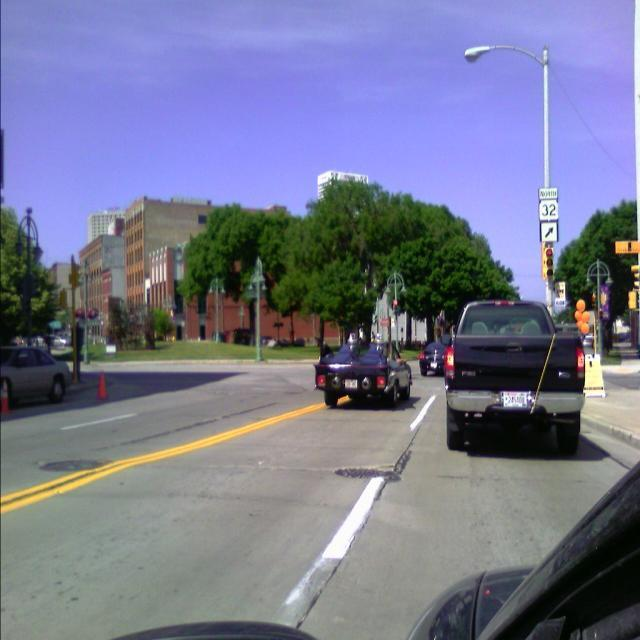traffic light: (545, 248, 557, 279)
